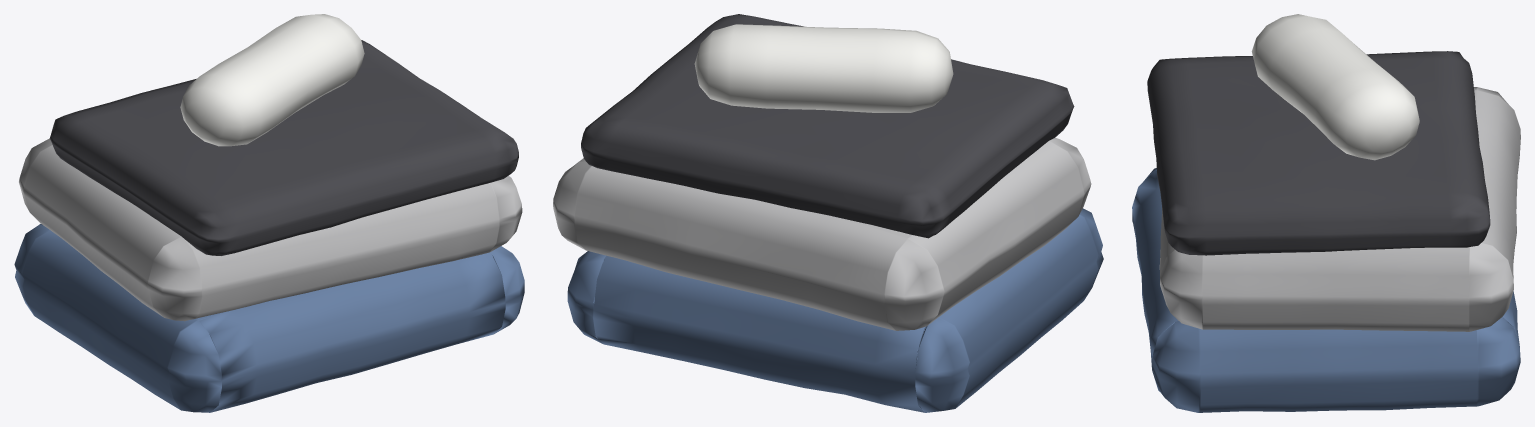
The model's file is textiles_folded_stack_a.fbx.
3 renders of one model, left to right at view 1: azimuth 30°, elevation 25°; view 2: azimuth 150°, elevation 25°; view 3: azimuth 270°, elevation 25°, orthographic. The views are drawn at different scales.
Visible parts, largest first — view 1: textiles_folded_stack_a; view 2: textiles_folded_stack_a; view 3: textiles_folded_stack_a.
Part boxes in pixels (left/top/right/bottom): textiles_folded_stack_a: left=14, top=14, right=524, bottom=412; textiles_folded_stack_a: left=553, top=14, right=1103, bottom=412; textiles_folded_stack_a: left=1132, top=14, right=1520, bottom=412.
Bounding box in the file's own units: 0.3087 × 0.2141 × 0.2633.
